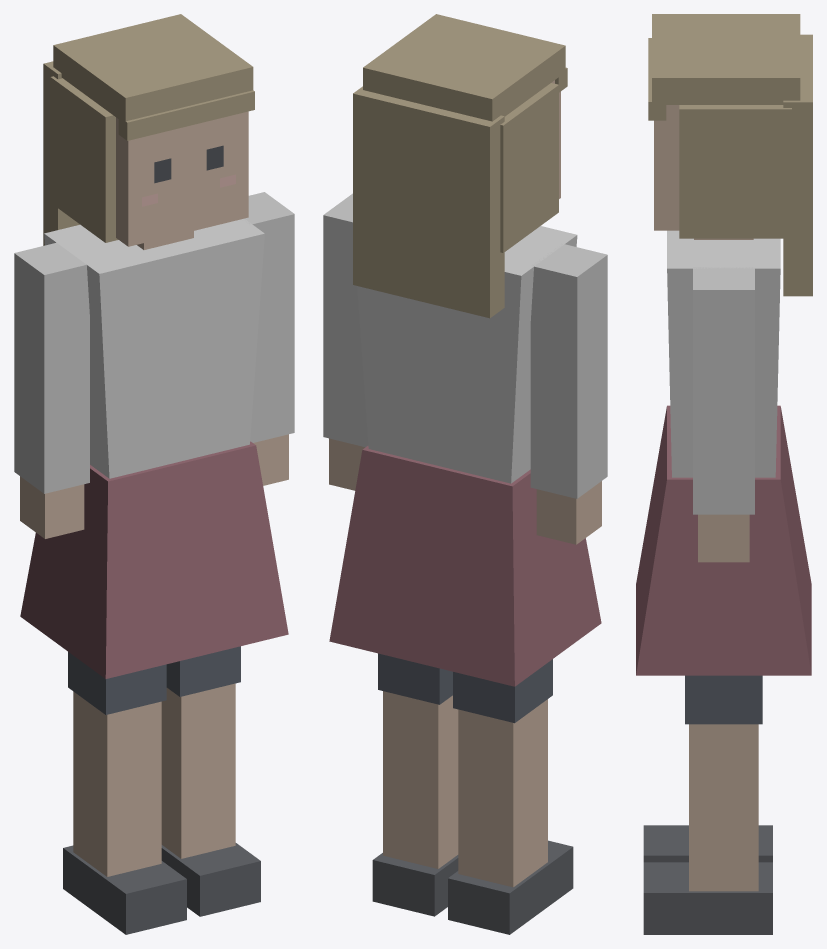
Rendered from walker_3.glb.
The picture shows the model from 3 angles, left to right: view 1: azimuth 30°, elevation 25°; view 2: azimuth 150°, elevation 25°; view 3: azimuth 270°, elevation 25°; orthographic projection. The views are drawn at different scales.
Visible parts, largest first — view 1: walker_3; view 2: walker_3; view 3: walker_3.
Boxes of the visible parts, bbox=[...] form: walker_3: bbox=[14, 14, 294, 934]; walker_3: bbox=[323, 14, 607, 934]; walker_3: bbox=[636, 14, 812, 934].
Size of the model in its own units: 0.5347 by 1.7 by 0.3185.
